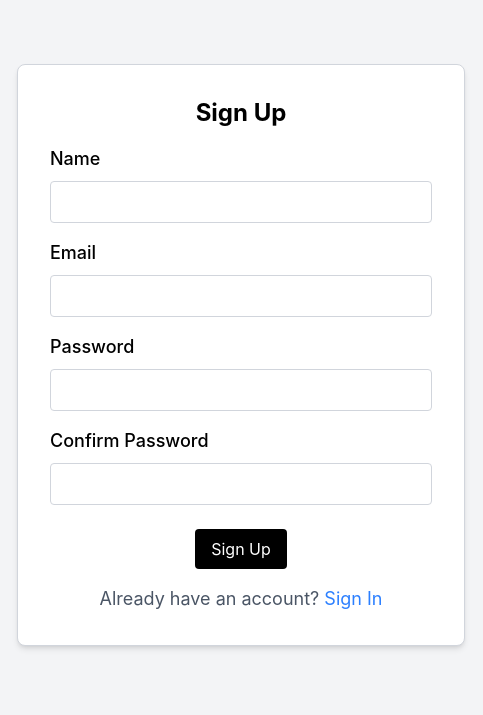
Test: Sign Up Page › ShouldShowErrorsWhenFormIsSubmittedEmpty
What coordinates should you click on to do the following:
click the button "Sign Up"
I would click on:
 (241, 549)
Its box is [195,529,287,569].
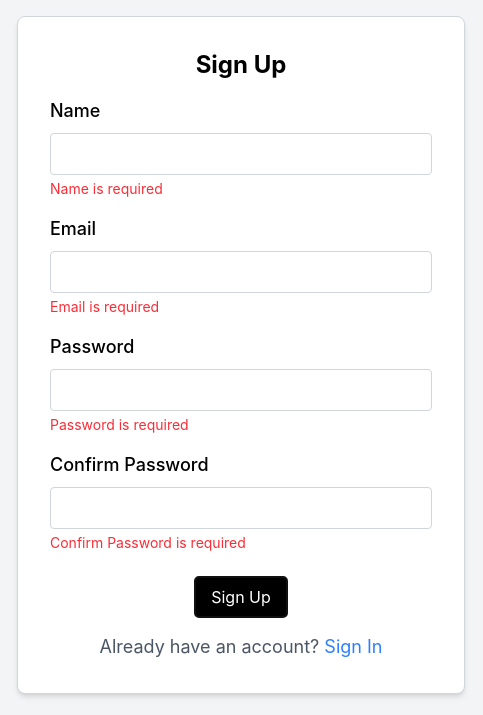
Expected: the text "Name is required" is shown, [50,180,163,197]
Expected: the text "Email is required" is shown, [50,298,159,315]
Expected: the text "Password is required" is shown, [50,416,189,433]
